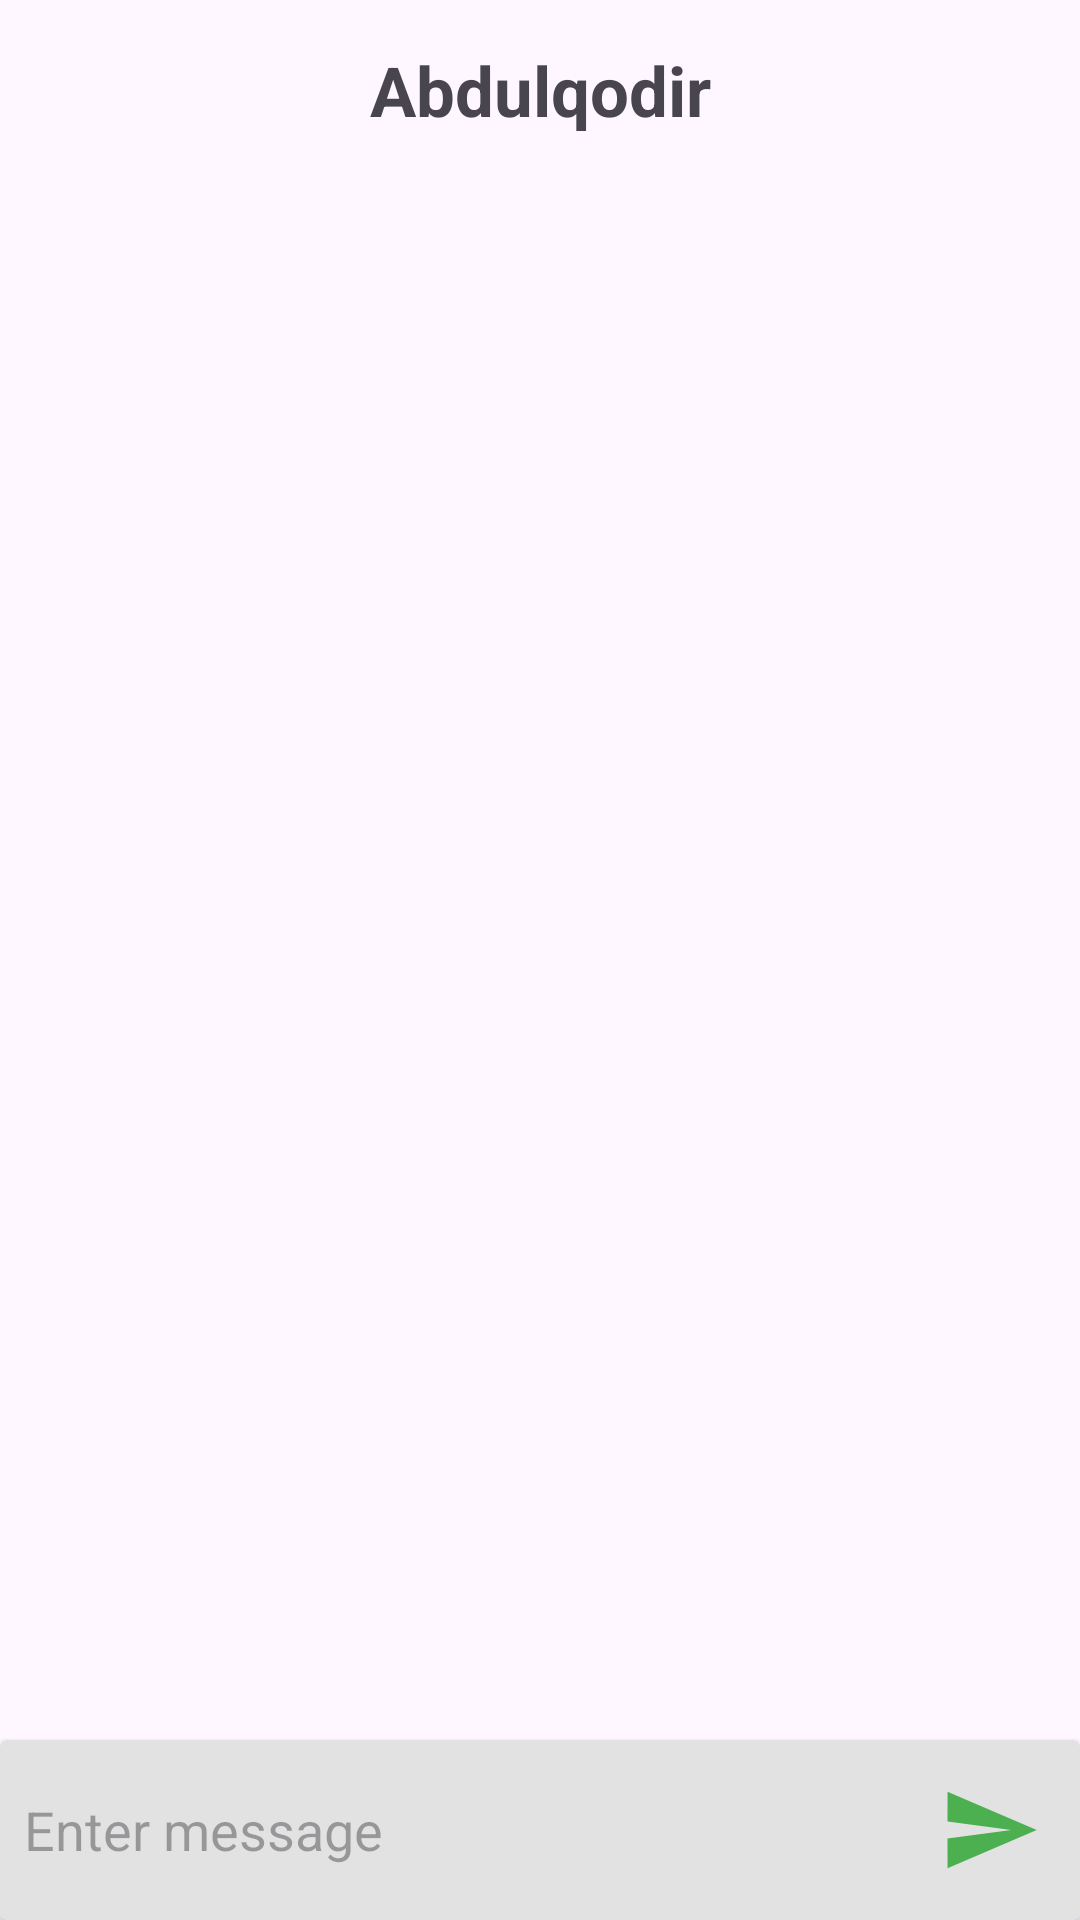

Screen size 1080px×1920px. Icon name, then its center in pixels as (x,y):
send: (991,1830)
